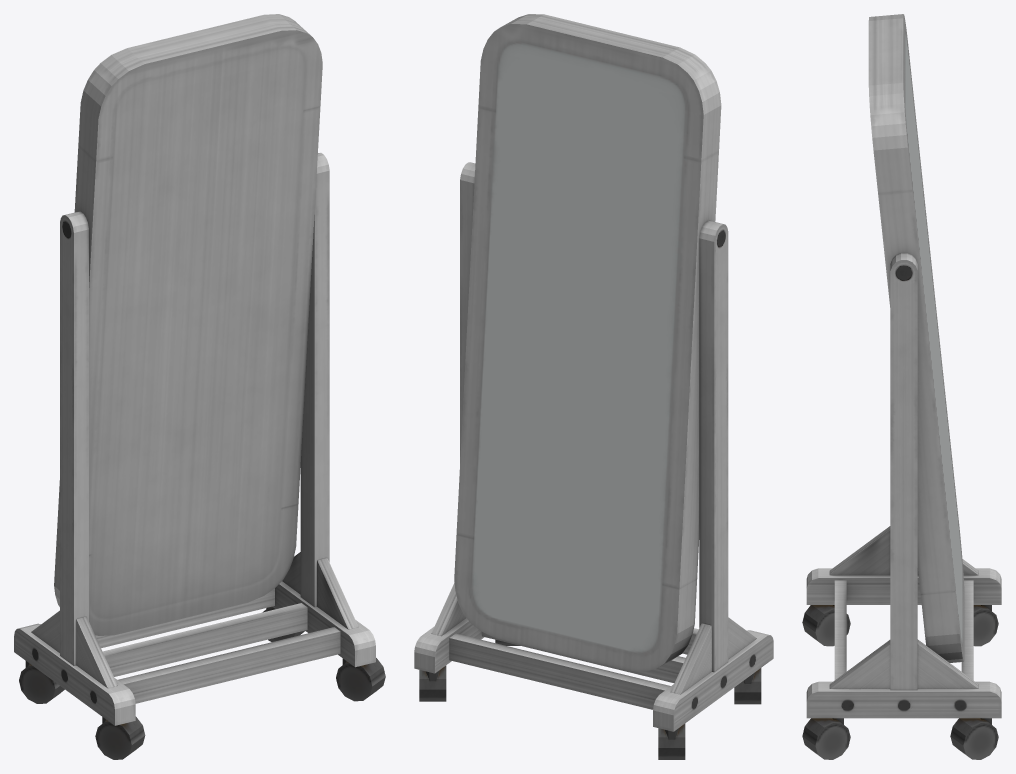
The model's file is P_Mirror_001_S1_M03.obj.
3 views of the same model, side by side, from view 1: azimuth 30°, elevation 25°; view 2: azimuth 150°, elevation 25°; view 3: azimuth 270°, elevation 25° (orthographic). The views are drawn at different scales.
Size of the model in its own units: 0.7957 by 1.82 by 0.5085.
1 material, 1 textured.
